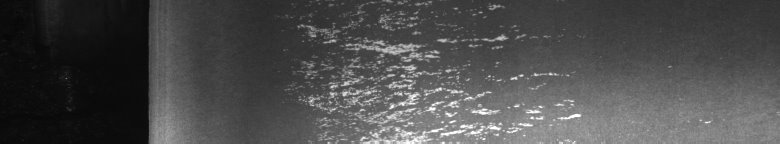kb: (278, 4, 581, 136)
